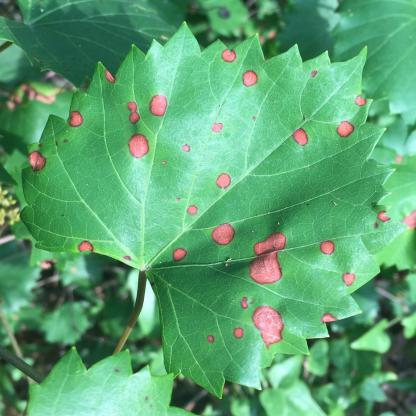grape leaf black rot: (12, 24, 404, 394)
